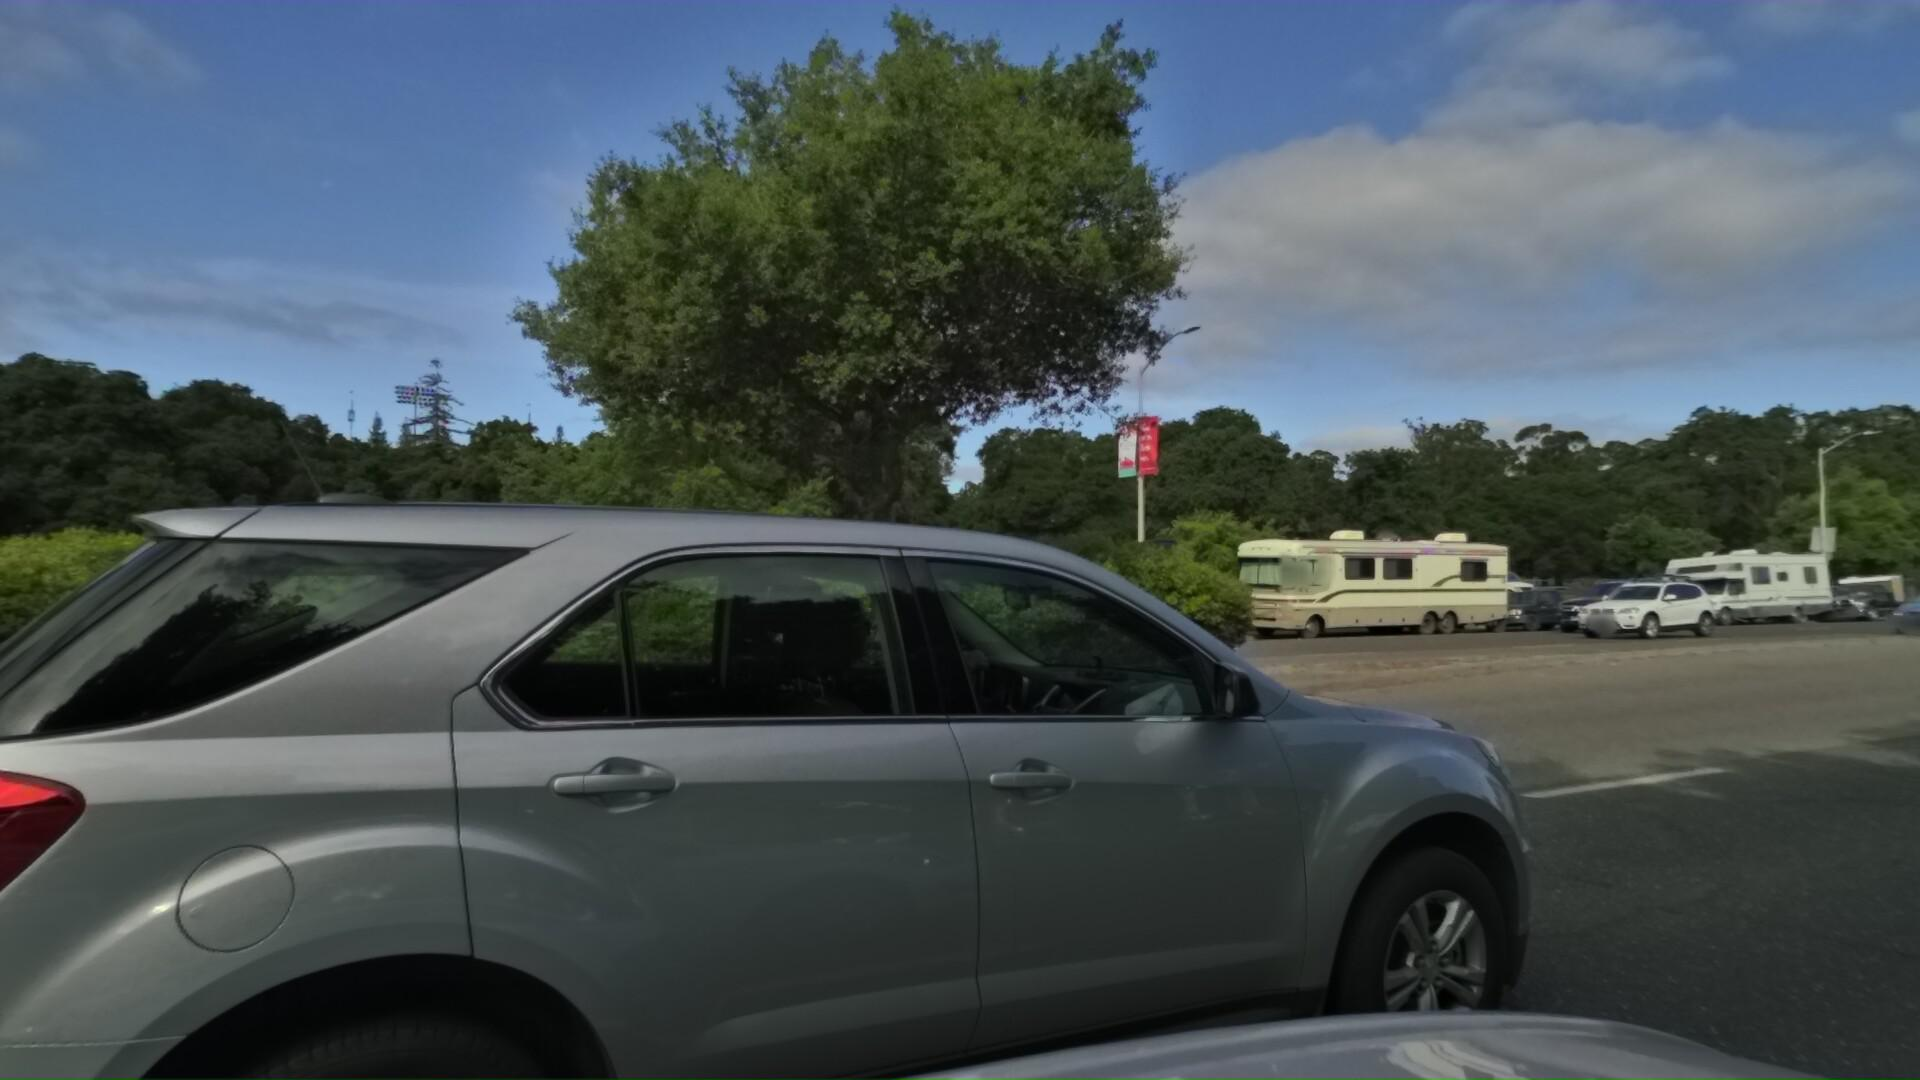car: (647, 549, 1010, 698), (1528, 572, 1698, 645), (1516, 574, 1663, 634), (1464, 583, 1594, 636), (1789, 567, 1920, 618), (1851, 580, 1920, 642), (1905, 584, 1920, 625)
other_vehicle: (1215, 516, 1509, 636), (1633, 537, 1832, 624)
truck: (609, 521, 935, 655), (960, 524, 1211, 647)
